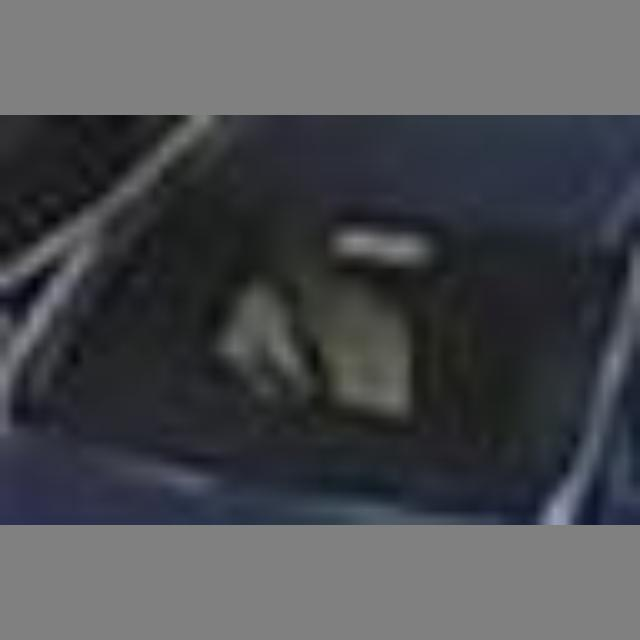pakai: (200, 215, 440, 425)
